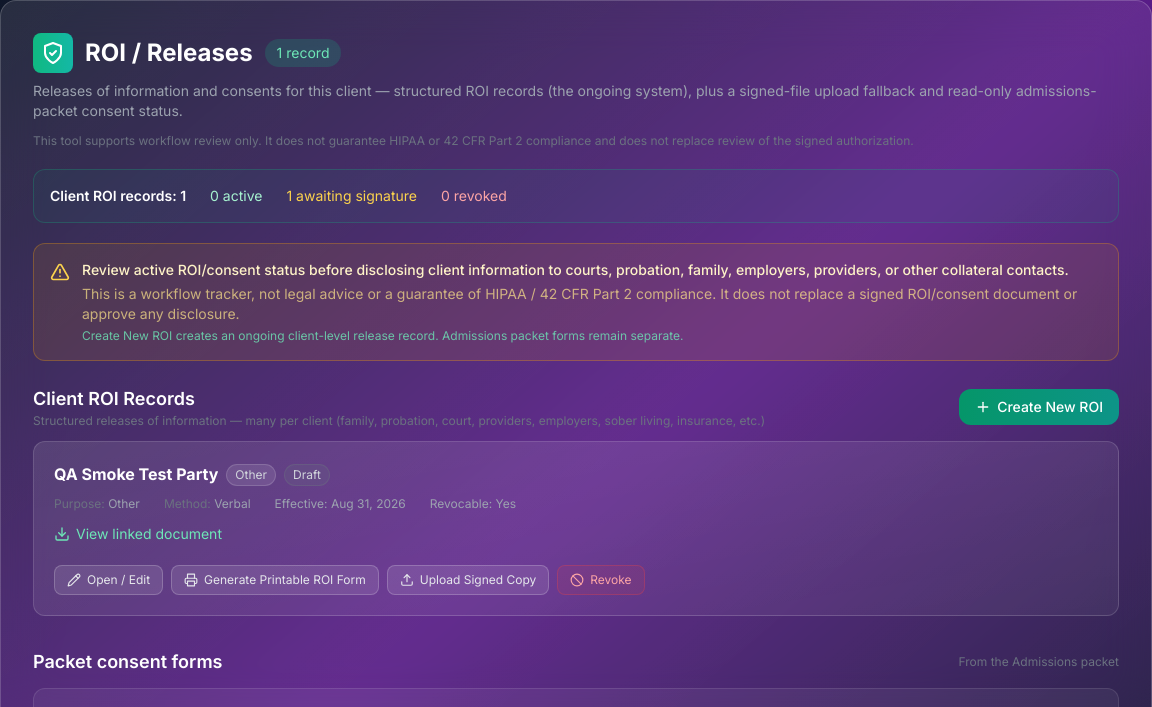
RoiConsentTracker - View linked document › still shows the friendly error text when the browser genuinely blocks the popup
The width and height of the screenshot is (1152, 707).
Click the button "View linked document".
click(138, 534)  # box [54,524,222,544]
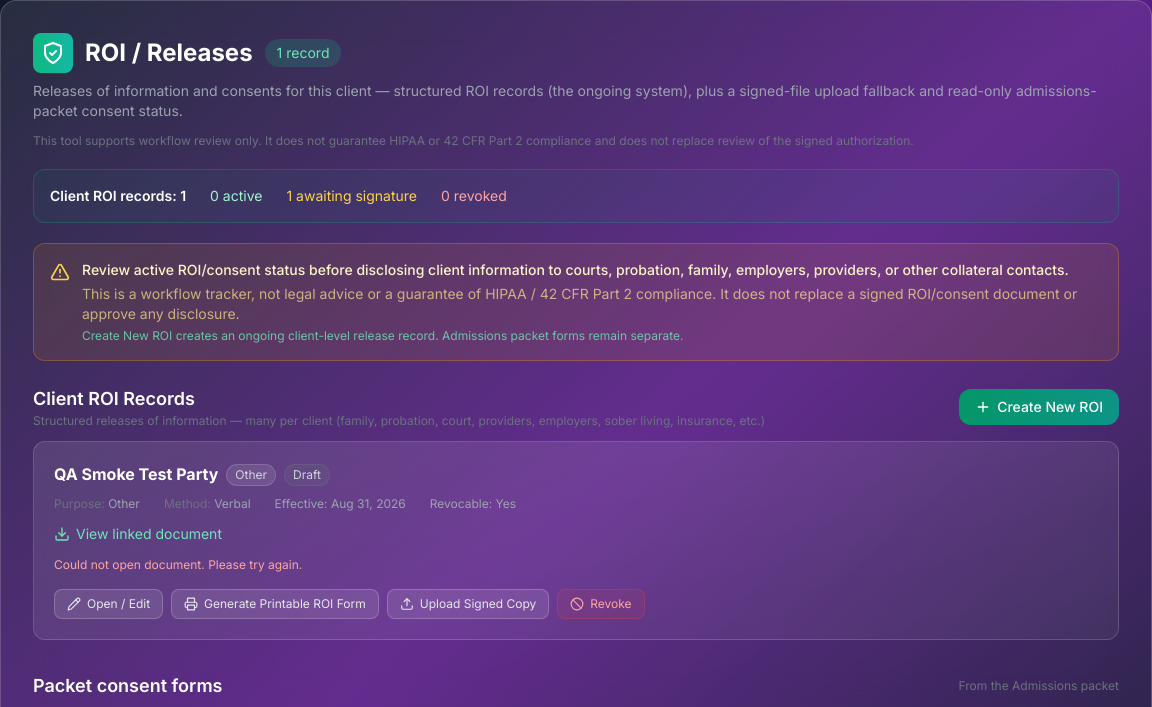
Check: the text "Could not open document. Please try again." is shown, box [54,557,302,572]
